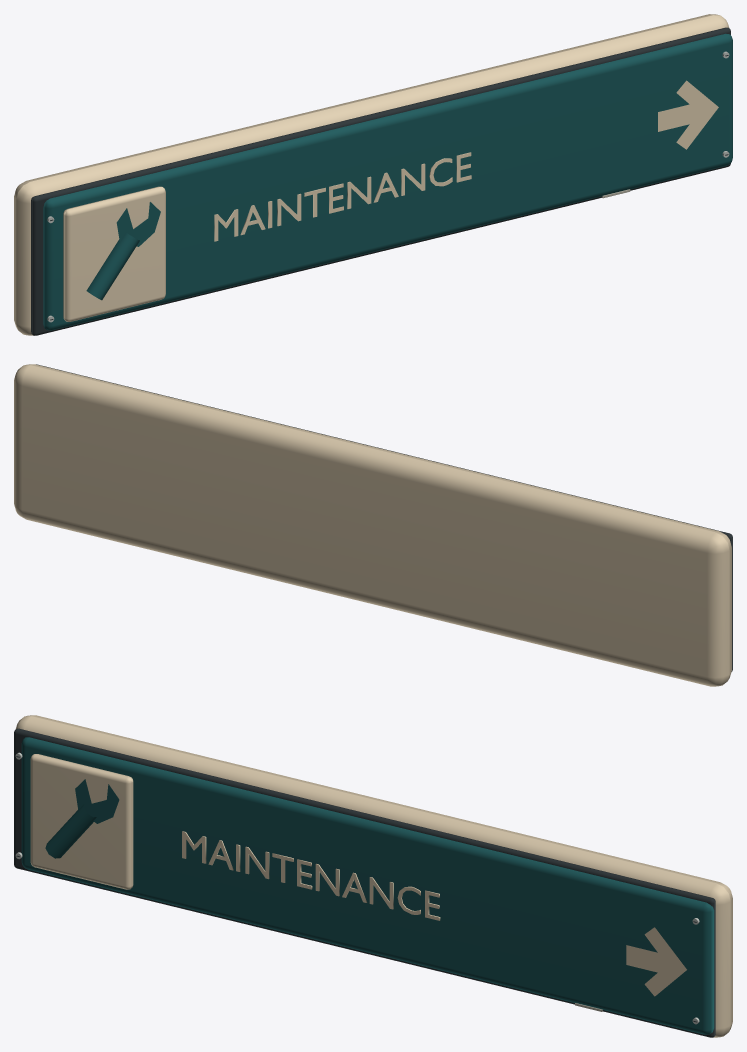
File: sign_maintenance.glb
The picture shows the model from 3 angles, top to bottom: view 1: azimuth 30°, elevation 25°; view 2: azimuth 150°, elevation 25°; view 3: azimuth 330°, elevation 25°; orthographic projection.
Visible parts, largest first — view 1: sign_maintenance__Enamel_Teal, sign_maintenance__Shell_Warm_Cream, sign_maintenance__Rubber_Graphite; view 2: sign_maintenance__Shell_Warm_Cream, sign_maintenance__Rubber_Graphite; view 3: sign_maintenance__Enamel_Teal, sign_maintenance__Shell_Warm_Cream, sign_maintenance__Rubber_Graphite.
Part boxes in pixels (x1,y1,x2,y2): sign_maintenance__Enamel_Teal: (43, 33, 732, 330); sign_maintenance__Shell_Warm_Cream: (14, 14, 729, 335); sign_maintenance__Rubber_Graphite: (31, 27, 730, 335); sign_maintenance__Shell_Warm_Cream: (14, 364, 731, 686); sign_maintenance__Rubber_Graphite: (36, 364, 732, 671); sign_maintenance__Enamel_Teal: (21, 737, 714, 1034); sign_maintenance__Shell_Warm_Cream: (16, 715, 732, 1037); sign_maintenance__Rubber_Graphite: (14, 728, 715, 1037).
Size of the model in its own units: 0.9 by 0.185 by 0.074.
